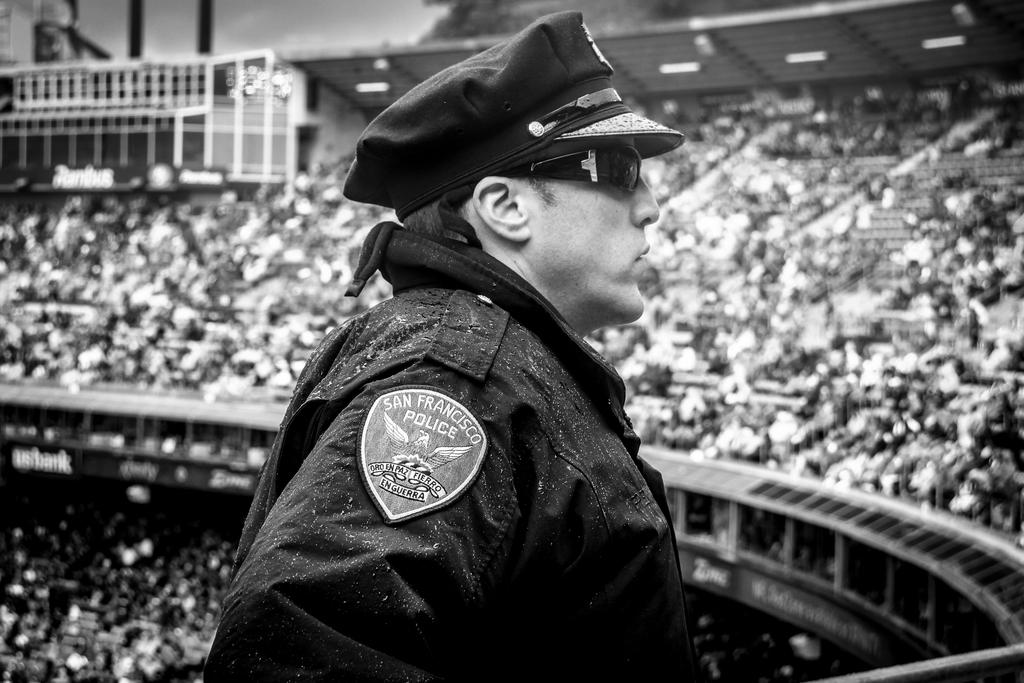Hat: (338, 13, 686, 224)
